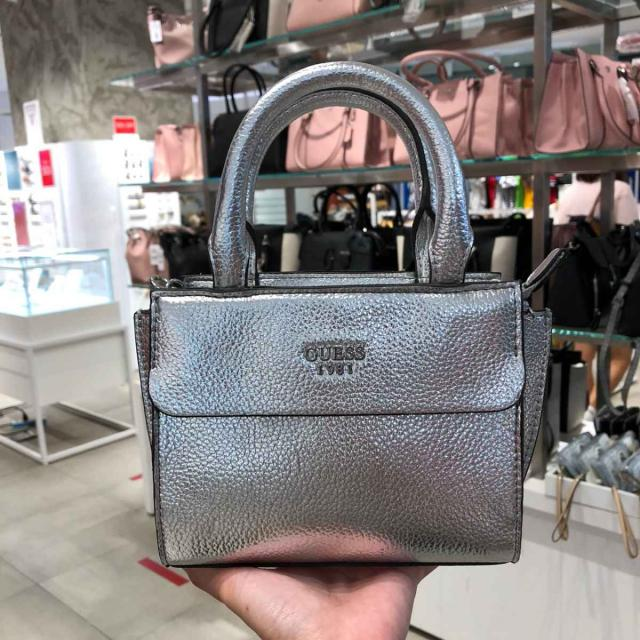Handbag: (120, 59, 569, 578)
